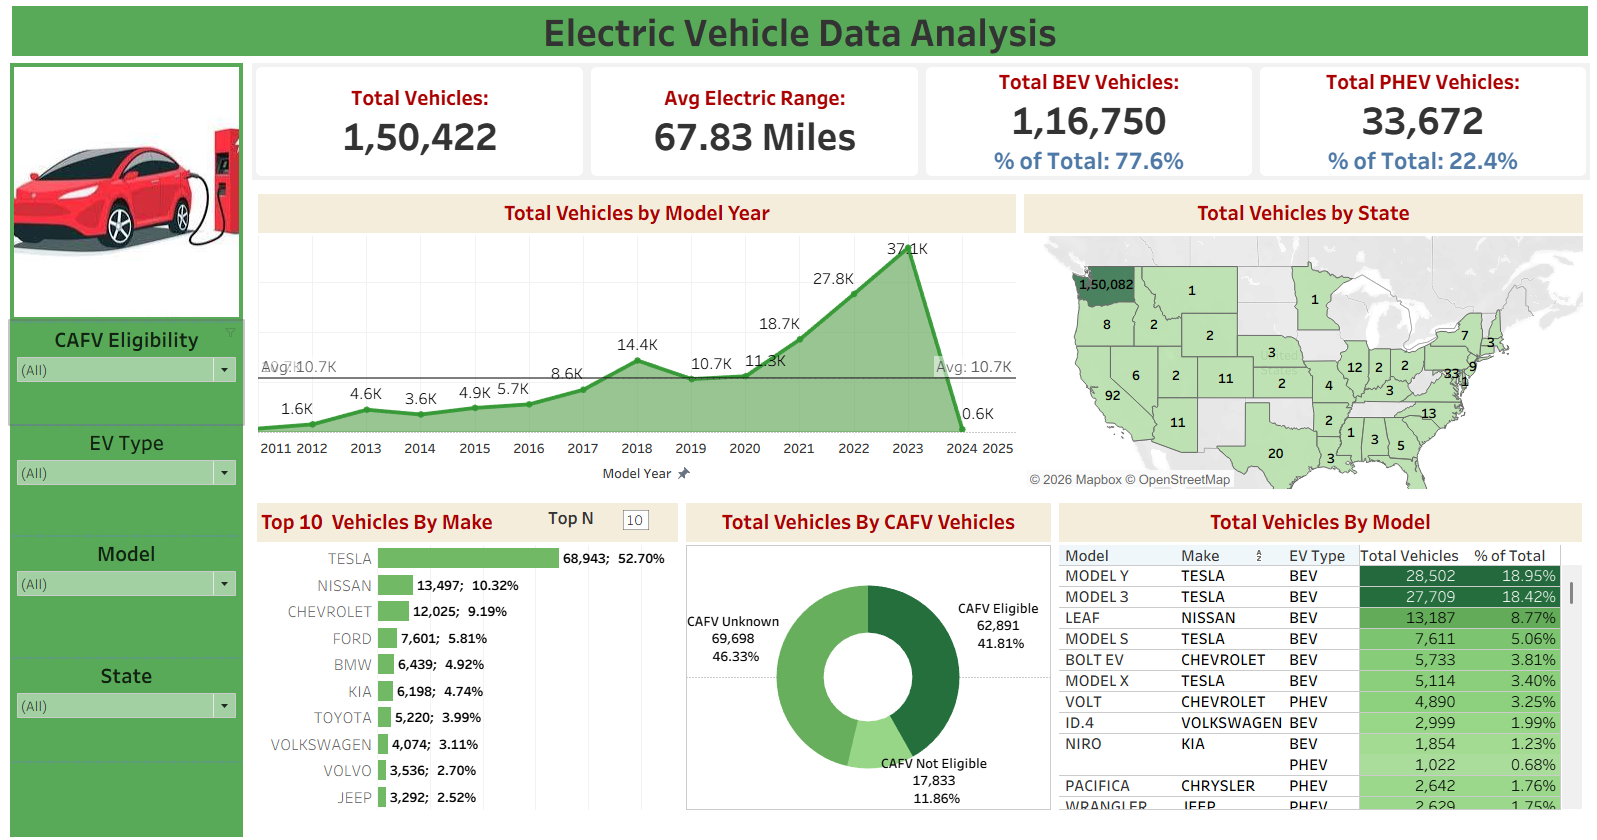

This screenshot's page, from the dashboard's own definition file:
{"tool":"tableau","page":{"name":"Dashboard","canvas":[1600,900],"ordinal":0},"visuals":[{"type":"title","box":[8,8,1584,58]},{"type":"image","param":"C:/Users/varka/Desktop/ev car.jpg","box":[10,69,233,258]},{"type":"worksheet","title":"Total Vehicles","mark":"Automatic","box":[252,69,335,117]},{"type":"worksheet","title":"Avg Electric Range","mark":"Automatic","box":[587,69,335,117]},{"type":"worksheet","title":"Total BEV Vehicles & % of BEV Vehicles","mark":"Automatic","box":[922,69,334,117]},{"type":"worksheet","title":"Total PHEV & % of PHEV ","mark":"Automatic","box":[1256,69,334,117]},{"type":"worksheet","title":"Total Vehicles by Model Year","mark":"Area","rows":["Calculation_0175406908051456","Calculation_0175406908051456"],"cols":["Model Year"],"box":[254,196,766,303]},{"type":"worksheet","title":"Total Vehicles by State","mark":"Multipolygon","box":[1020,196,567,303]},{"type":"filter","title":"Top 10 Vehicles By Make","param":"[federated.0ogt73l0jy6mhw17dzlt00wqntb7].[none:Clean Alternative Fuel Vehicle (C","box":[10,327,233,103]},{"type":"filter","title":"Top 10 Vehicles By Make","param":"[federated.0ogt73l0jy6mhw17dzlt00wqntb7].[none:Electric Vehicle Type:nk]","box":[10,430,233,111]},{"type":"worksheet","title":"Top 10 Vehicles By Make","mark":"Automatic","rows":["Make"],"cols":["Calculation_0175406908051456"],"box":[253,505,429,315]},{"type":"worksheet","title":"Total Vehicles By CAFV Vehicles","mark":"Pie","rows":["Calculation_0175407177330697","Calculation_0175407177330697"],"box":[682,505,373,315]},{"type":"worksheet","title":"Total Vehicles By Model","mark":"Square","rows":["Model","Make","Electric Vehicle Type"],"box":[1055,505,531,315]},{"type":"parameter","param":"[Parameters].[Parameter 0175407153954823]","box":[548,513,104,30]},{"type":"filter","title":"Top 10 Vehicles By Make","param":"[federated.0ogt73l0jy6mhw17dzlt00wqntb7].[none:Model:nk]","box":[10,541,233,122]},{"type":"filter","title":"Top 10 Vehicles By Make","param":"[federated.0ogt73l0jy6mhw17dzlt00wqntb7].[none:State:nk]","box":[10,663,233,104]}]}

Visuals, with their boxes on the page's 1600x900 design canvas (x1, y1, x2, y2). These are canvas units, not pixel positions in the 1597x840 screenshot, which may show the page scaled, cropped or inside an application window:
title: <box>8,8,1592,66</box>
image: <box>10,69,243,327</box>
"Total Vehicles" worksheet: <box>252,69,587,186</box>
"Avg Electric Range" worksheet: <box>587,69,922,186</box>
"Total BEV Vehicles & % of BEV Vehicles" worksheet: <box>922,69,1256,186</box>
"Total PHEV & % of PHEV " worksheet: <box>1256,69,1590,186</box>
"Total Vehicles by Model Year" worksheet (Area marks): <box>254,196,1020,499</box>
"Total Vehicles by State" worksheet (Multipolygon marks): <box>1020,196,1587,499</box>
"Top 10 Vehicles By Make" filter: <box>10,327,243,430</box>
"Top 10 Vehicles By Make" filter: <box>10,430,243,541</box>
"Top 10 Vehicles By Make" worksheet: <box>253,505,682,820</box>
"Total Vehicles By CAFV Vehicles" worksheet (Pie marks): <box>682,505,1055,820</box>
"Total Vehicles By Model" worksheet (Square marks): <box>1055,505,1586,820</box>
parameter: <box>548,513,652,543</box>
"Top 10 Vehicles By Make" filter: <box>10,541,243,663</box>
"Top 10 Vehicles By Make" filter: <box>10,663,243,767</box>
